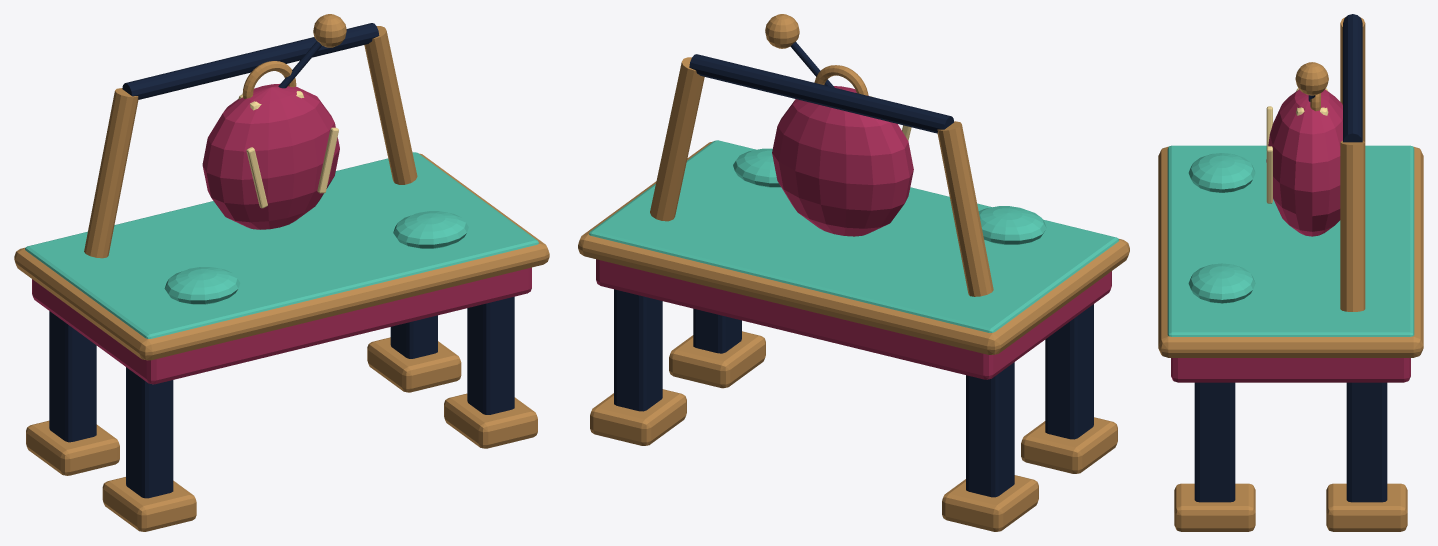
Rendered from PassingBag.fbx.
3 renders of one model, left to right at view 1: azimuth 30°, elevation 25°; view 2: azimuth 150°, elevation 25°; view 3: azimuth 270°, elevation 25°, orthographic. The views are drawn at different scales.
Visible parts, largest first — view 1: PassingBag.Mesh, PassingBag.Bag.Mesh; view 2: PassingBag.Mesh, PassingBag.Bag.Mesh; view 3: PassingBag.Mesh, PassingBag.Bag.Mesh.
Part boxes in pixels (bbox=[...]): PassingBag.Mesh: bbox=[14, 23, 549, 531]; PassingBag.Bag.Mesh: bbox=[202, 14, 346, 229]; PassingBag.Mesh: bbox=[578, 54, 1129, 531]; PassingBag.Bag.Mesh: bbox=[765, 14, 913, 236]; PassingBag.Mesh: bbox=[1158, 14, 1423, 531]; PassingBag.Bag.Mesh: bbox=[1266, 62, 1342, 236].
Bounding box in the file's own units: 265 × 252 × 150.
